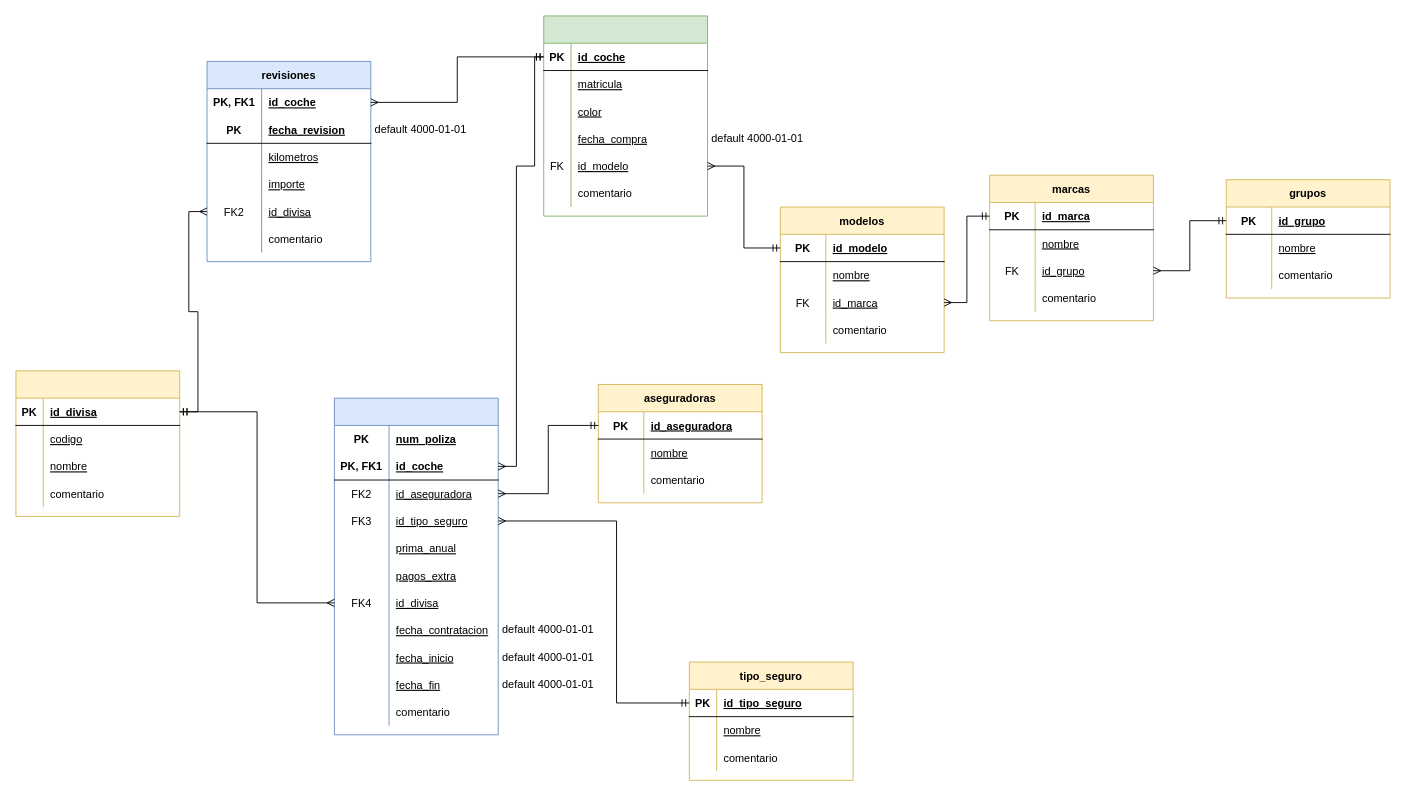
Image size: 1406x796. Some labels were removed from this diagram. The shapes that lost their labels are listed below. From the top down, each one's box as (x1, y1, x2, y2) in pixels, then its label:
(543, 15, 708, 216): coches
(15, 370, 180, 516): divisas
(334, 397, 498, 735): polizas
